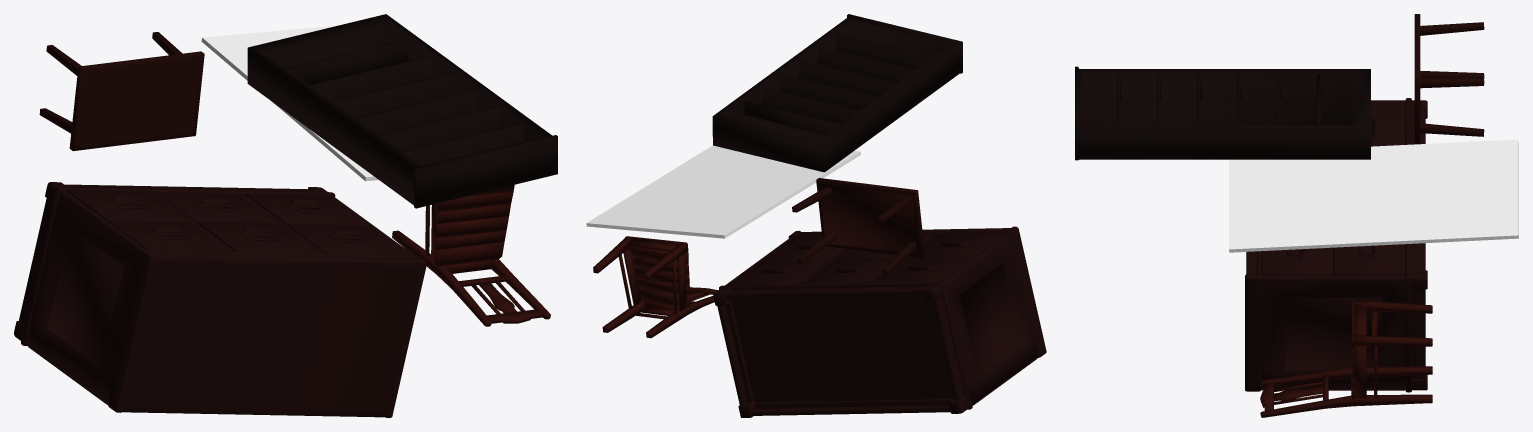
3 renders of one model, left to right at view 1: azimuth 30°, elevation 25°; view 2: azimuth 150°, elevation 25°; view 3: azimuth 270°, elevation 25°, orthographic. The views are drawn at different scales.
Parts seen in each view (by area): view 1: diffuse_cabinet_01, diffuse_shelf_03, diffuse_table_02, diffuse_chair_04, glass_door_01; view 2: diffuse_cabinet_01, diffuse_shelf_03, glass_door_01, diffuse_table_02, diffuse_chair_04; view 3: glass_door_01, diffuse_shelf_03, diffuse_cabinet_01, diffuse_chair_04, diffuse_table_02.
Boxes of the visible parts, box(x1,y1,x2,y2) form: diffuse_cabinet_01: box(14, 182, 426, 417); diffuse_shelf_03: box(247, 14, 557, 208); diffuse_table_02: box(39, 32, 204, 151); diffuse_chair_04: box(392, 185, 550, 326); glass_door_01: box(201, 25, 378, 181); diffuse_cabinet_01: box(713, 226, 1046, 417); diffuse_shelf_03: box(712, 14, 962, 172); glass_door_01: box(586, 145, 860, 238); diffuse_table_02: box(792, 178, 924, 274); diffuse_chair_04: box(593, 236, 717, 338); glass_door_01: box(1229, 139, 1518, 252); diffuse_shelf_03: box(1075, 66, 1370, 160); diffuse_cabinet_01: box(1245, 98, 1427, 392); diffuse_chair_04: box(1260, 298, 1432, 417); diffuse_table_02: box(1414, 14, 1484, 144).
Size of the model in its own units: 240 by 168 by 229.
